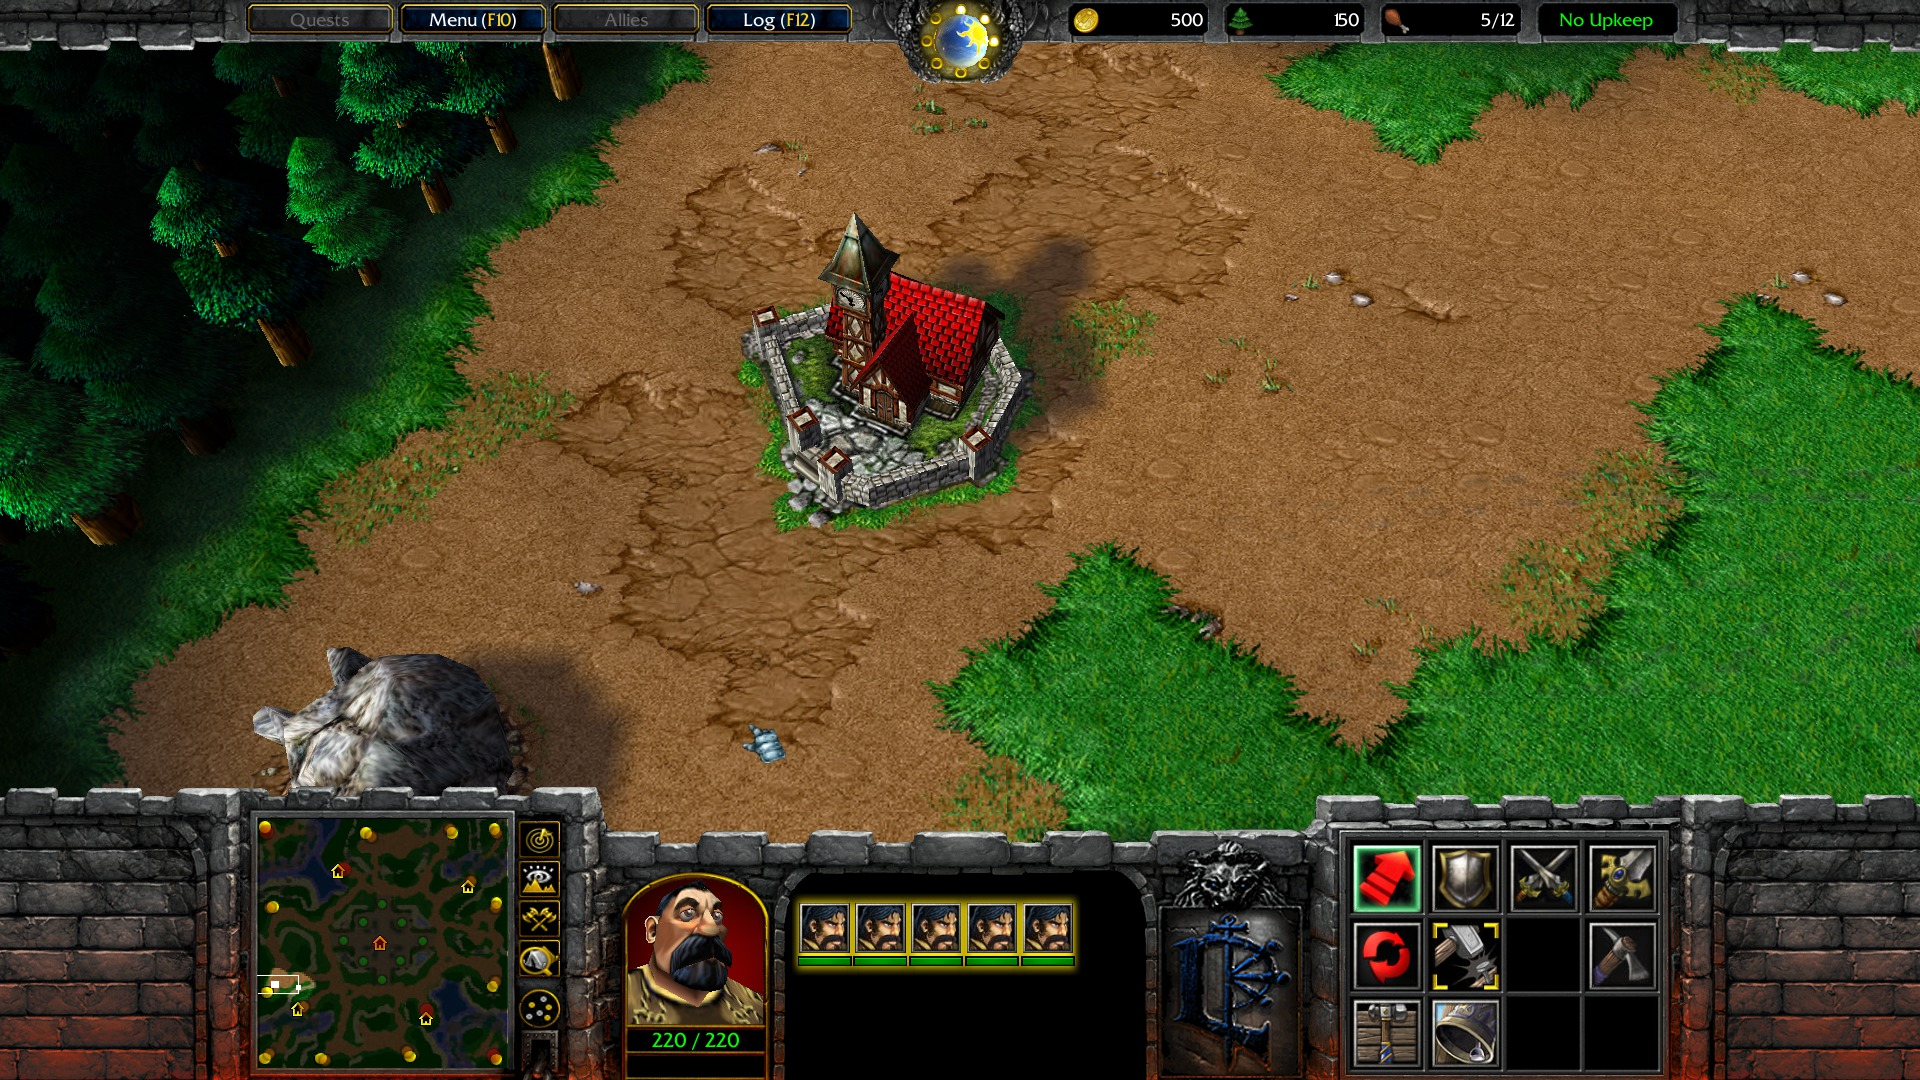Townhall: (727, 211, 1046, 533)
